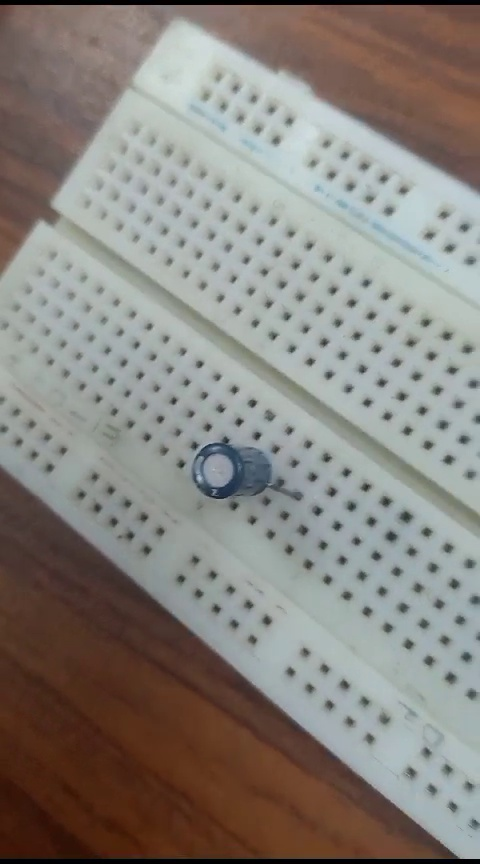capacitor: (173, 435, 298, 507)
